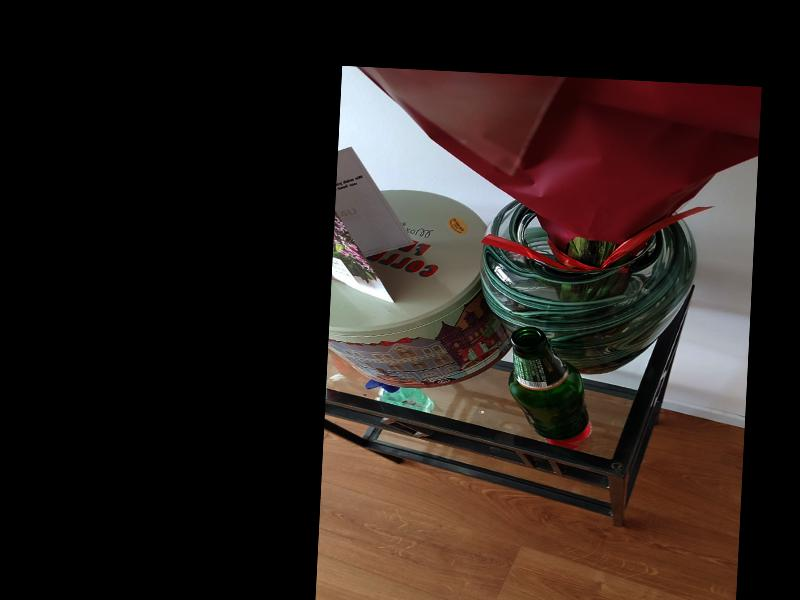Beer: (505, 326, 593, 441)
